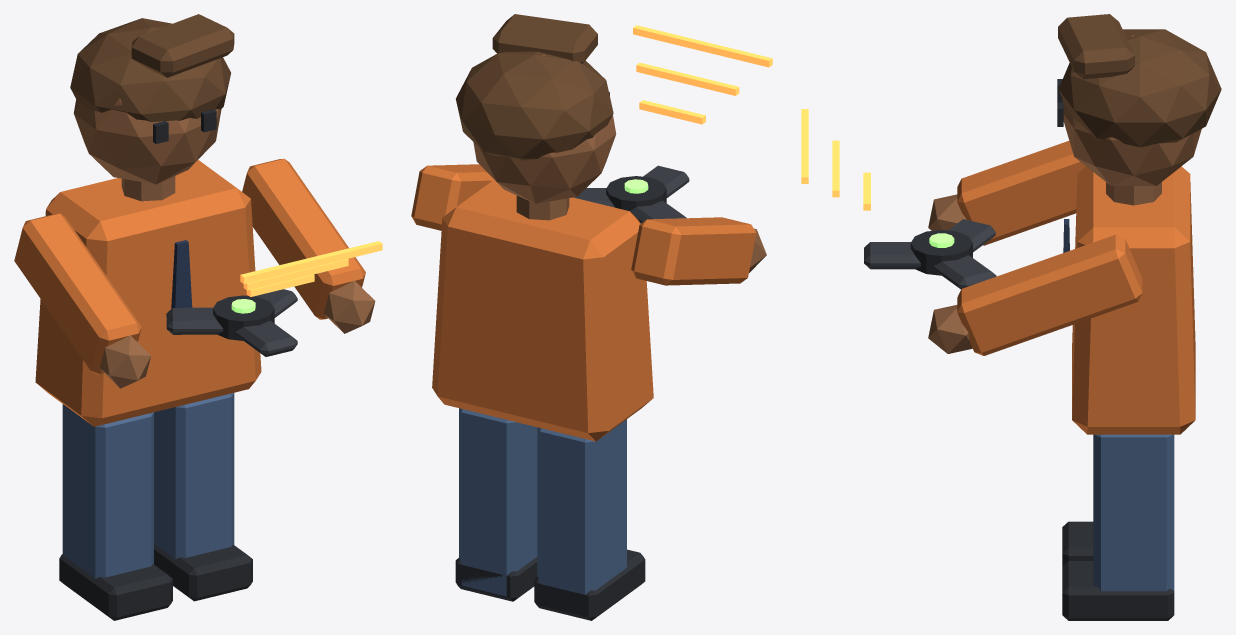
Rendered from phonecaller.glb.
3 renders of one model, left to right at view 1: azimuth 30°, elevation 25°; view 2: azimuth 150°, elevation 25°; view 3: azimuth 270°, elevation 25°, orthographic. The views are drawn at different scales.
Parts seen in each view (by area): view 1: Body, LegR, ArmL, LegL, ArmR, Props; view 2: Body, LegR, LegL, ArmL, ArmR; view 3: Body, ArmL, LegL, ArmR, LegR.
Part boxes in pixels (box(x1,y1,x2,y2)): Body: box(35, 14, 261, 426); LegR: box(59, 404, 172, 620); ArmL: box(166, 158, 382, 356); LegL: box(154, 393, 252, 601); ArmR: box(14, 213, 150, 388); Props: box(171, 240, 192, 308); Body: box(432, 14, 653, 441); LegR: box(534, 419, 645, 620); LegL: box(455, 408, 537, 601); ArmL: box(411, 25, 772, 230); ArmR: box(631, 217, 766, 285); Body: box(1057, 14, 1221, 434); ArmL: box(801, 109, 1142, 355); LegL: box(1062, 434, 1174, 620); ArmR: box(928, 141, 1085, 245); LegR: box(1062, 521, 1093, 565).
Bounding box in the file's own units: 0.5005 × 1 × 0.6763.
